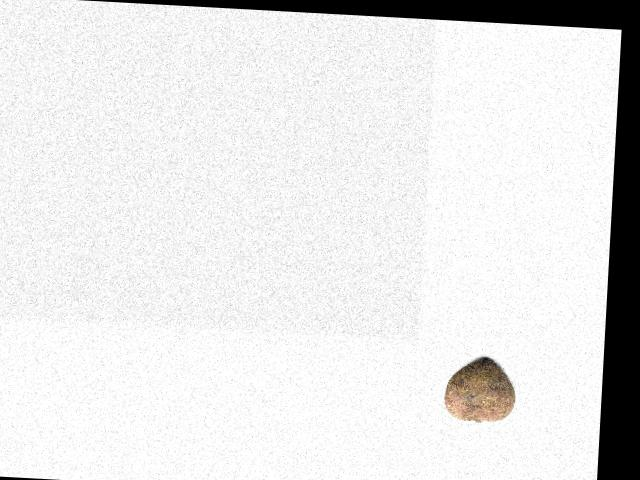beet: (442, 355, 517, 423)
